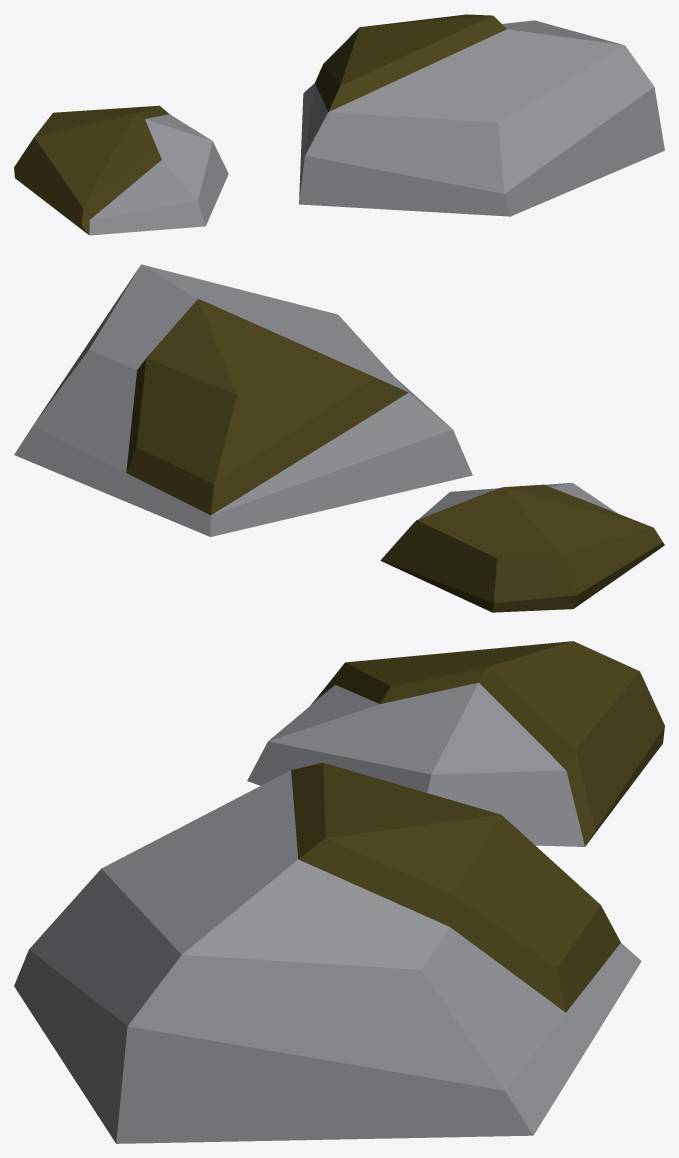
File: stone_with_moss_5.fbx
3 renders of one model, top to bottom at view 1: azimuth 30°, elevation 25°; view 2: azimuth 150°, elevation 25°; view 3: azimuth 270°, elevation 25°, orthographic. The views are drawn at different scales.
Parts seen in each view (by area): view 1: stone_with_moss_5; view 2: stone_with_moss_5; view 3: stone_with_moss_5.
Boxes of the visible parts, <box> form: stone_with_moss_5: <box>14,14,664,235</box>; stone_with_moss_5: <box>14,264,664,612</box>; stone_with_moss_5: <box>14,641,664,1143</box>.
Bounding box in the file's own units: 137 × 29.76 × 83.82.
